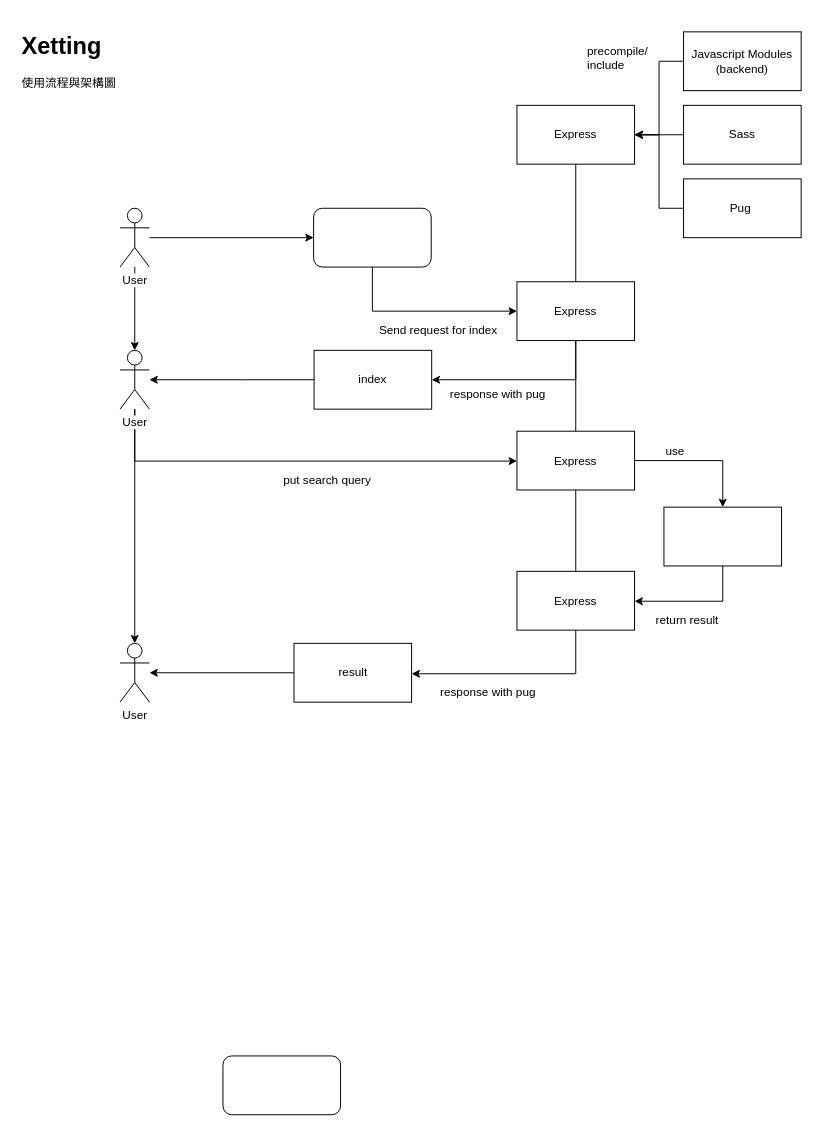
Some shapes in this 818 by 1132 pixel diagram are drawn without their labels. The shapes that lost their labels are listed below. From the top down, each one's box as (x1, y1, x2, y2) in pixels, then its label:
(313, 207, 431, 267): Start
(663, 506, 782, 566): Our Crawler Modules For searching books
(222, 1055, 341, 1115): Finish
